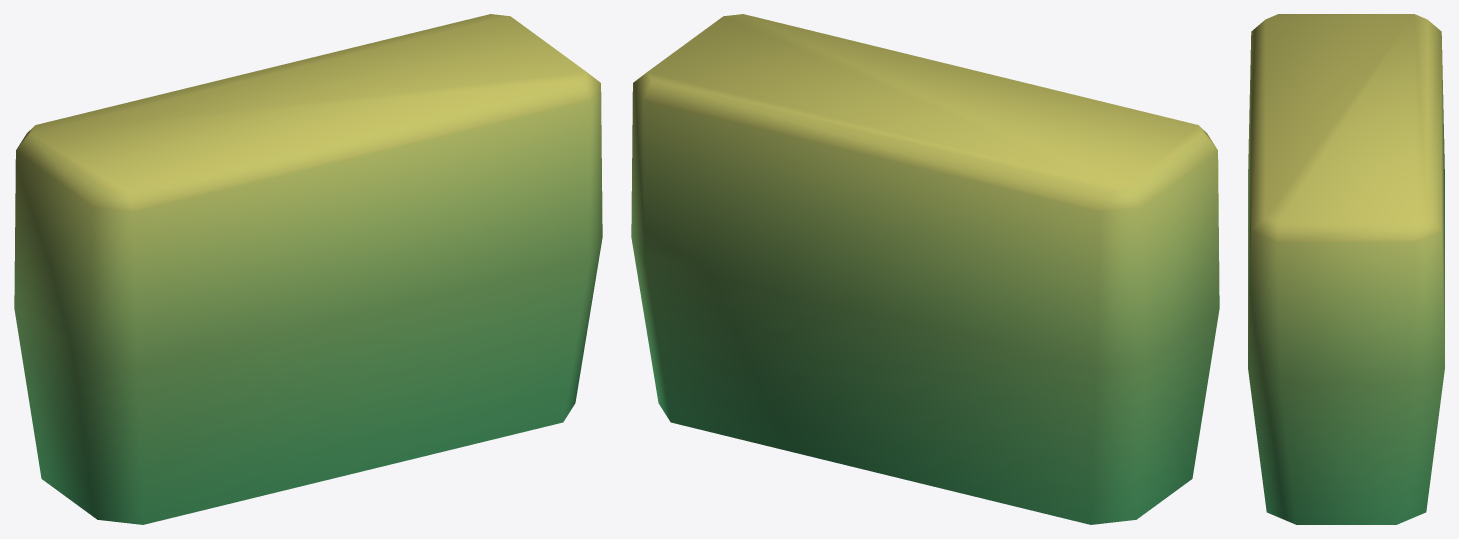
The model's file is Hedge_Square_Long_01.fbx.
3 views of the same model, side by side, from view 1: azimuth 30°, elevation 25°; view 2: azimuth 150°, elevation 25°; view 3: azimuth 270°, elevation 25° (orthographic). The views are drawn at different scales.
Parts seen in each view (by area): view 1: Hedge_Square_Long_01; view 2: Hedge_Square_Long_01; view 3: Hedge_Square_Long_01.
Part boxes in pixels (bbox=[...]): Hedge_Square_Long_01: bbox=[14, 14, 602, 524]; Hedge_Square_Long_01: bbox=[631, 14, 1219, 524]; Hedge_Square_Long_01: bbox=[1248, 14, 1444, 524].
Bounding box in the file's own units: 318 × 200 × 118.
